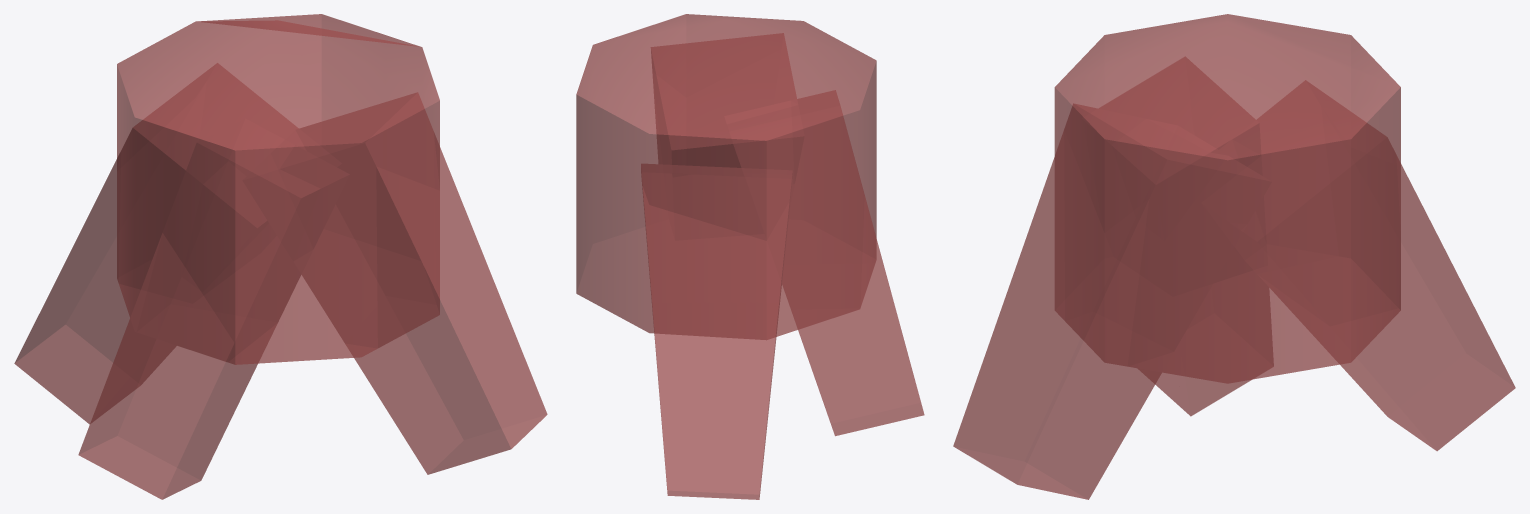
The model's file is SM_Env_Tree_Root_Clump_03_Collision.fbx.
3 views of the same model, side by side, from view 1: azimuth 30°, elevation 25°; view 2: azimuth 150°, elevation 25°; view 3: azimuth 270°, elevation 25° (orthographic). The views are drawn at different scales.
Parts seen in each view (by area): view 1: SM_Env_Tree_Root_Clump_03_Collision; view 2: SM_Env_Tree_Root_Clump_03_Collision; view 3: SM_Env_Tree_Root_Clump_03_Collision.
Boxes of the visible parts, bbox=[...] form: SM_Env_Tree_Root_Clump_03_Collision: bbox=[14, 14, 547, 499]; SM_Env_Tree_Root_Clump_03_Collision: bbox=[576, 14, 924, 499]; SM_Env_Tree_Root_Clump_03_Collision: bbox=[953, 14, 1515, 499].
Bounding box in the file's own units: 171 × 189 × 214.
